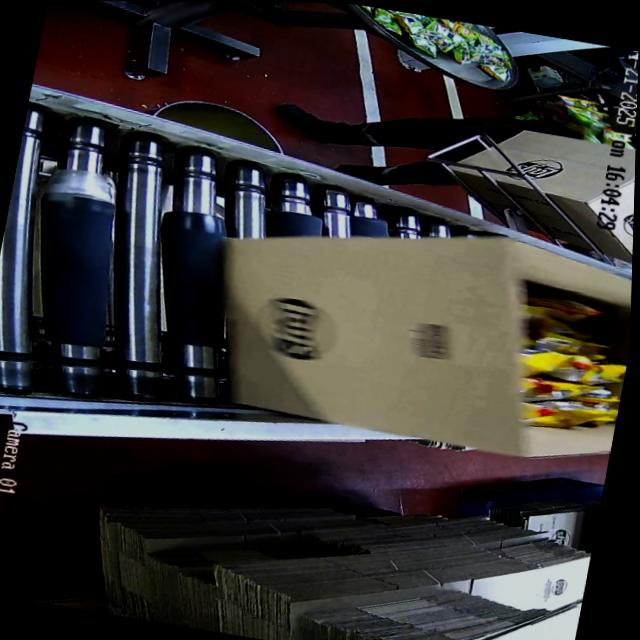SALTED: (499, 285, 632, 439)
